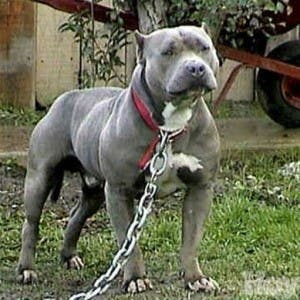Perro Pitbull: (105, 21, 241, 261)
